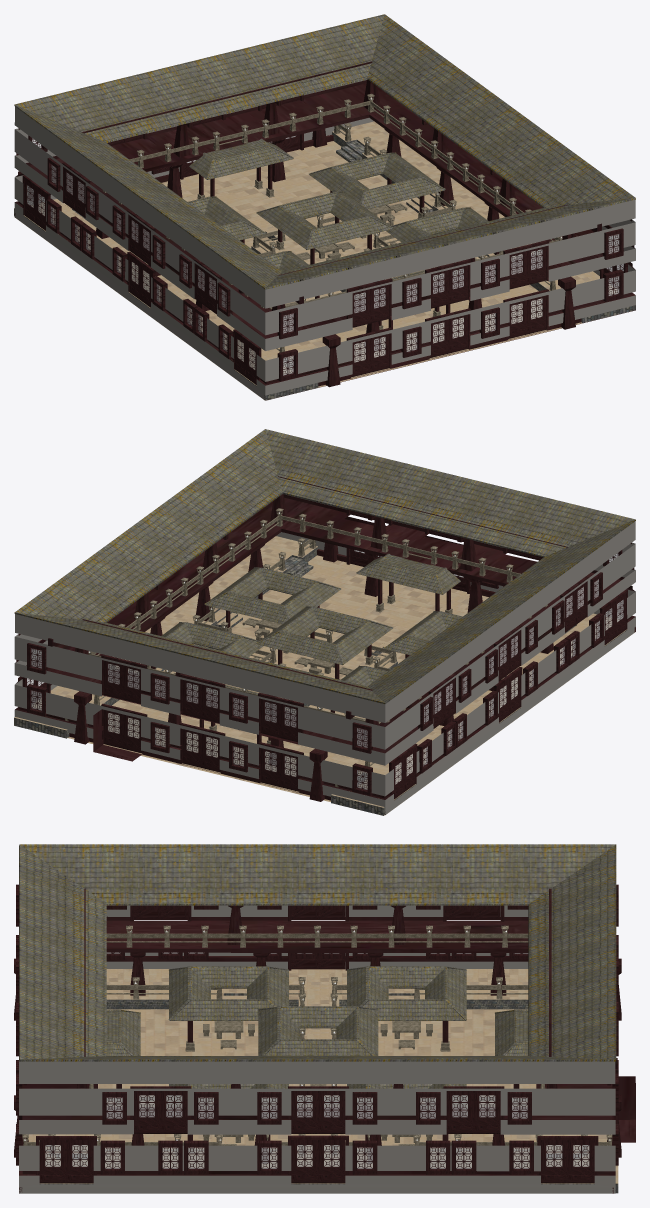
File: courtyard-transformed.glb
3 renders of one model, top to bottom at view 1: azimuth 30°, elevation 25°; view 2: azimuth 150°, elevation 25°; view 3: azimuth 270°, elevation 25°, orthographic. The views are drawn at different scales.
Parts seen in each view (by area): view 1: walls, outer roof, floor, foundation.001, Pavillion_Roof_Square_With_Hole.001, Pavillion_Roof_Square_With_Hole.005, Awning_Assembly_Roof_Square_With_Hole_Roof_Square_With_Hole., Pavillion_Roof_Square_With_Hole.003, Pavillion_Roof_Square_With_Hole.004, Cube, Support_Support.003, Support_Support.007 (+1 smaller); view 2: walls, outer roof, floor, foundation.001, Pavillion_Roof_Square_With_Hole.001, Pavillion_Roof_Square_With_Hole.003, Awning_Assembly_Roof_Square_With_Hole_Roof_Square_With_Hole., Pavillion_Roof_Square_With_Hole.005, Pavillion_Roof_Square_With_Hole.002, Support_Support.009, Support_Support.008, Pavillion_Roof_Square_With_Hole.004; view 3: walls, outer roof, floor, foundation.001, Pavillion_Roof_Square_With_Hole.002, Pavillion_Roof_Square_With_Hole.004, Pavillion_Roof_Square_With_Hole.001, Awning_Assembly_Roof_Square_With_Hole_Roof_Square_With_Hole. (×2), Door_Assembly_Door_Assembly_Door_Opening_Door_Door.046, Door_Assembly_Door_Assembly_Door_Opening_Door_Door.037, Door_Assembly_Door_Assembly_Door_Opening_Door_Door.041, Door_Assembly_Door_Assembly_Door_Opening_Door_Door.042 (+25 smaller).
Part boxes in pixels (bbox=[...]): walls: bbox=[14, 79, 635, 400]; outer roof: bbox=[14, 14, 635, 289]; floor: bbox=[14, 141, 582, 399]; foundation.001: bbox=[14, 121, 635, 400]; Pavillion_Roof_Square_With_Hole.001: bbox=[256, 191, 393, 249]; Pavillion_Roof_Square_With_Hole.005: bbox=[309, 152, 445, 209]; Awning_Assembly_Roof_Square_With_Hole_Roof_Square_With_Hole.: bbox=[189, 138, 293, 179]; Pavillion_Roof_Square_With_Hole.003: bbox=[386, 207, 488, 242]; Pavillion_Roof_Square_With_Hole.004: bbox=[188, 196, 265, 240]; Cube: bbox=[41, 61, 372, 149]; Support_Support.003: bbox=[322, 334, 340, 387]; Support_Support.007: bbox=[558, 276, 575, 329]; walls: bbox=[14, 494, 635, 814]; outer roof: bbox=[14, 429, 635, 703]; floor: bbox=[68, 555, 630, 815]; foundation.001: bbox=[14, 536, 627, 815]; Pavillion_Roof_Square_With_Hole.001: bbox=[256, 606, 393, 665]; Pavillion_Roof_Square_With_Hole.003: bbox=[204, 567, 341, 623]; Awning_Assembly_Roof_Square_With_Hole_Roof_Square_With_Hole.: bbox=[356, 553, 460, 594]; Pavillion_Roof_Square_With_Hole.005: bbox=[161, 622, 263, 657]; Pavillion_Roof_Square_With_Hole.002: bbox=[384, 611, 462, 655]; Support_Support.009: bbox=[74, 691, 91, 744]; Support_Support.008: bbox=[309, 748, 327, 801]; Pavillion_Roof_Square_With_Hole.004: bbox=[341, 665, 387, 686]; walls: bbox=[19, 905, 635, 1193]; outer roof: bbox=[19, 844, 616, 1061]; floor: bbox=[28, 1009, 607, 1153]; foundation.001: bbox=[39, 969, 618, 1193]; Pavillion_Roof_Square_With_Hole.002: bbox=[168, 966, 288, 1020]; Pavillion_Roof_Square_With_Hole.004: bbox=[347, 966, 466, 1020]; Pavillion_Roof_Square_With_Hole.001: bbox=[258, 1006, 378, 1055]; Awning_Assembly_Roof_Square_With_Hole_Roof_Square_With_Hole. (×2): bbox=[106, 1009, 528, 1055]; Door_Assembly_Door_Assembly_Door_Opening_Door_Door.046: bbox=[567, 1140, 594, 1183]; Door_Assembly_Door_Assembly_Door_Opening_Door_Door.037: bbox=[160, 1091, 187, 1133]; Door_Assembly_Door_Assembly_Door_Opening_Door_Door.041: bbox=[291, 1140, 318, 1183]; Door_Assembly_Door_Assembly_Door_Opening_Door_Door.042: bbox=[318, 1140, 345, 1183].
Bounding box in the file's own units: 23 × 6.93 × 27.76.
10 materials, 6 textured.
